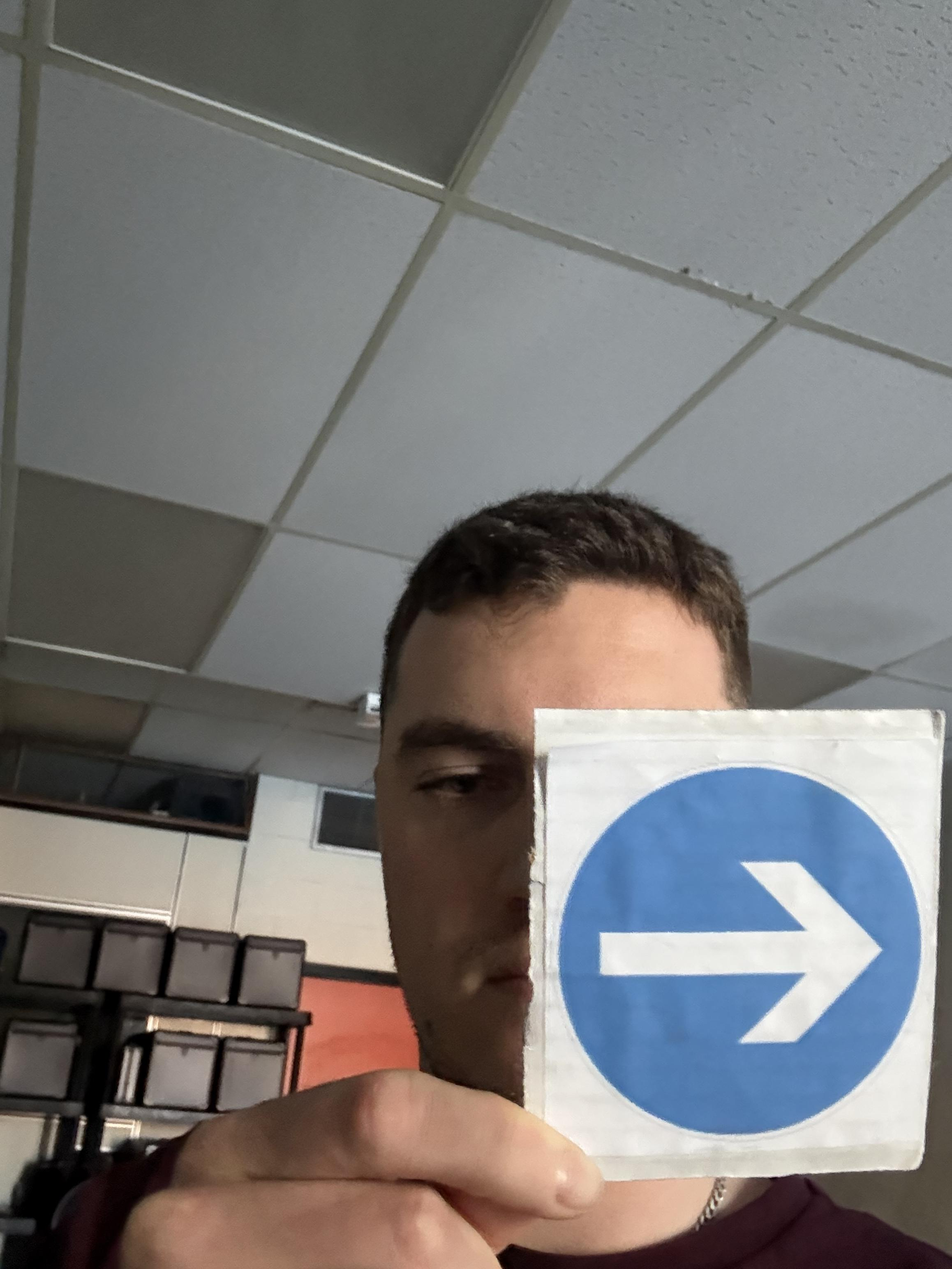Proceed Right: (399, 953, 702, 1269)
